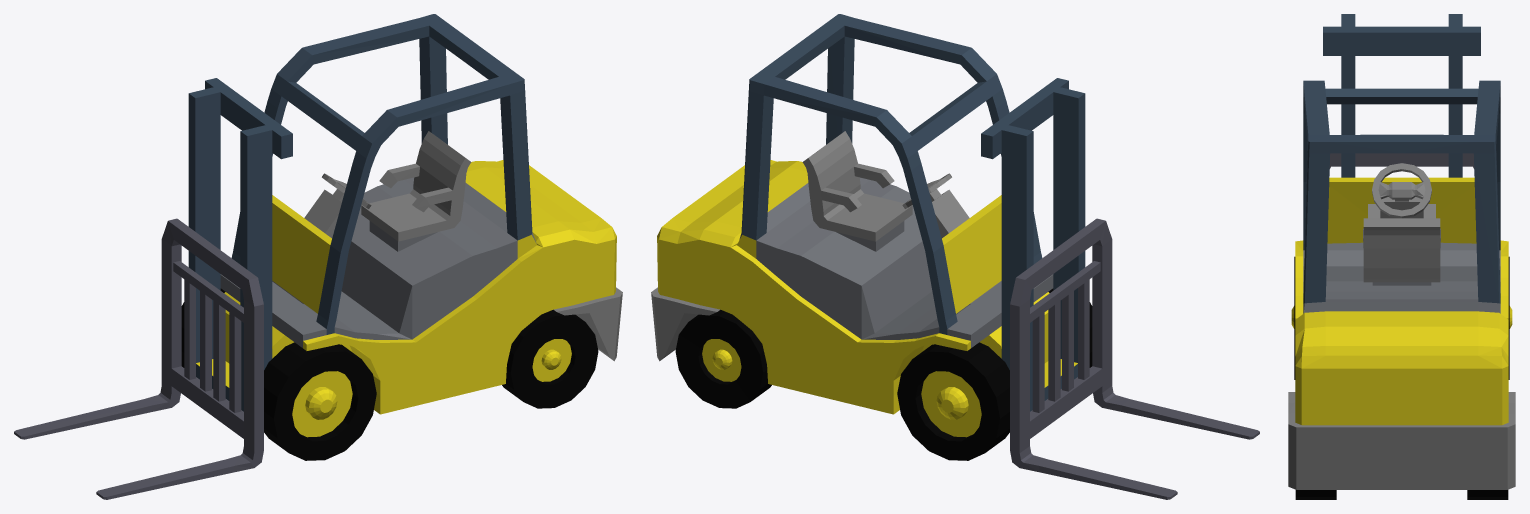
Rendered from sweethome3d-blendswap-cc-0-fork-lift-118.glb.
3 renders of one model, left to right at view 1: azimuth 30°, elevation 25°; view 2: azimuth 150°, elevation 25°; view 3: azimuth 270°, elevation 25°, orthographic. The views are drawn at different scales.
Parts seen in each view (by area): view 1: Circle; view 2: Circle; view 3: Circle.
Part boxes in pixels (<box>): Circle: <box>14,14,622,499</box>; Circle: <box>651,14,1259,499</box>; Circle: <box>1288,14,1515,499</box>.
Size of the model in its own units: 351 by 216 by 130.
